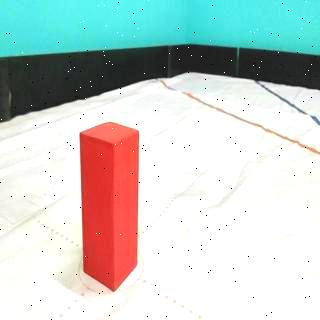redbox: (78, 120, 140, 292)
